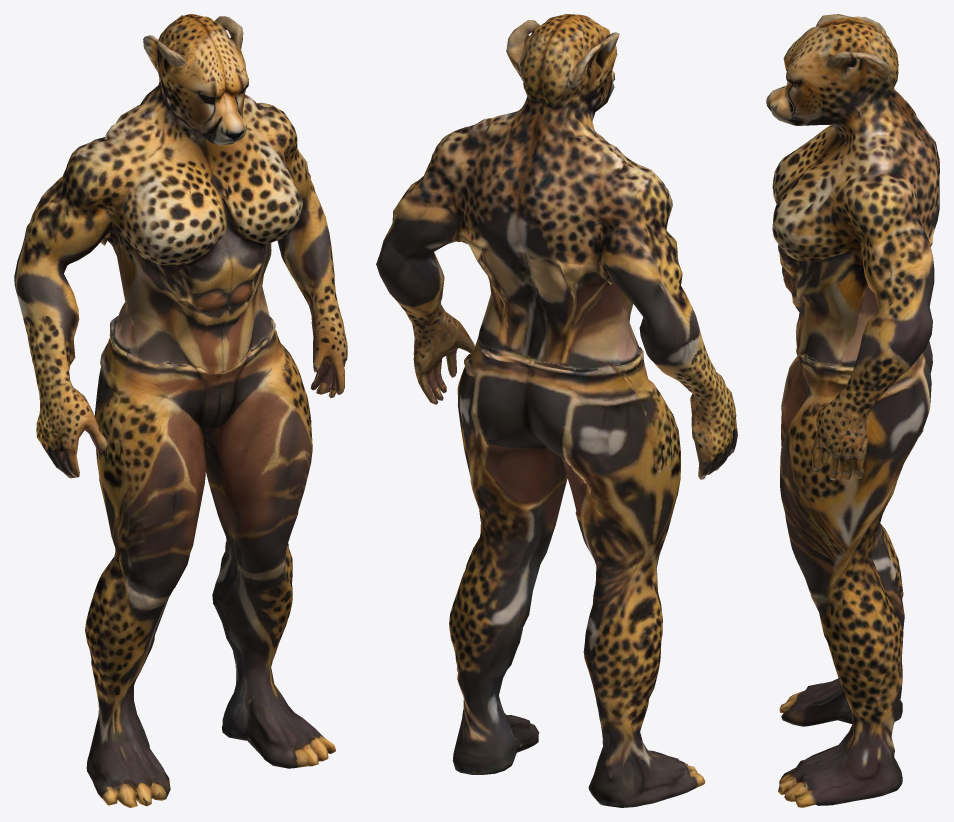
File: velkara.glb
3 views of the same model, side by side, from view 1: azimuth 30°, elevation 25°; view 2: azimuth 150°, elevation 25°; view 3: azimuth 270°, elevation 25° (orthographic). The views are drawn at different scales.
Parts seen in each view (by area): view 1: Mesh_0.072_Material_0.073_0; view 2: Mesh_0.072_Material_0.073_0; view 3: Mesh_0.072_Material_0.073_0.
Part boxes in pixels (x1,y1,x2,y2): Mesh_0.072_Material_0.073_0: (14, 14, 347, 807); Mesh_0.072_Material_0.073_0: (376, 14, 737, 807); Mesh_0.072_Material_0.073_0: (766, 14, 939, 807).
Bounding box in the file's own units: 0.8643 × 2 × 0.4292.
1 material, 1 textured.
